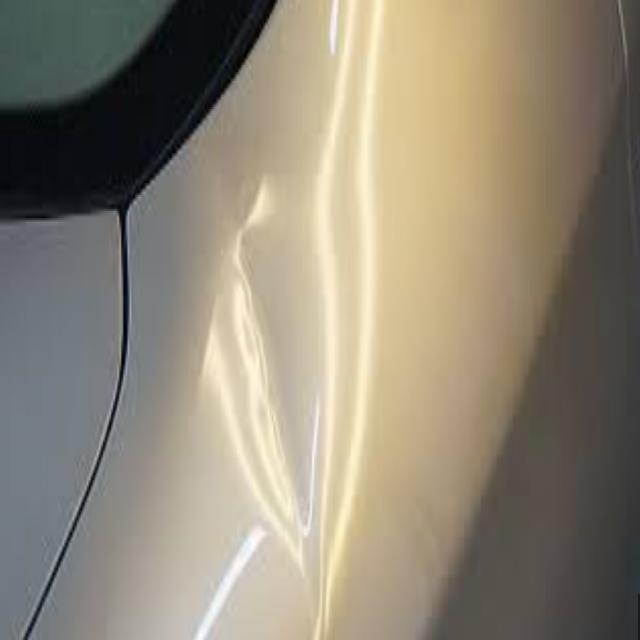dents: (196, 170, 333, 504)
